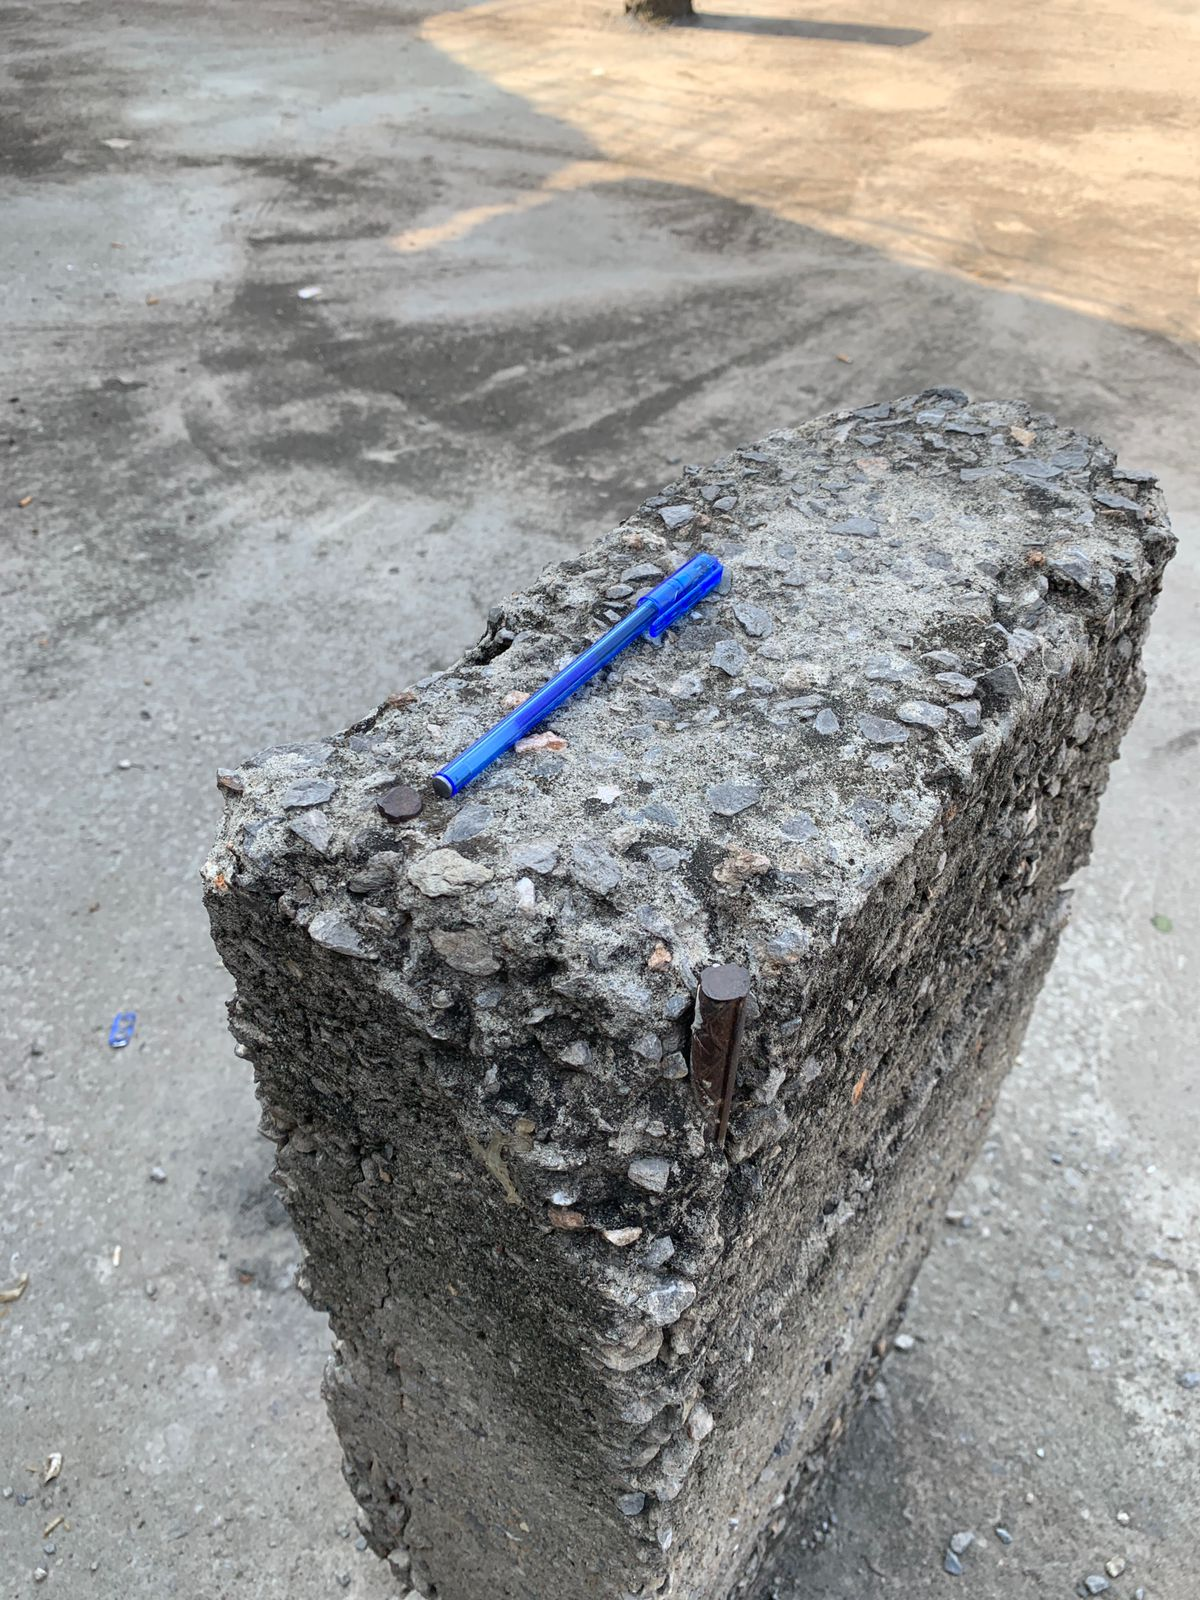pen: (409, 502, 774, 827)
